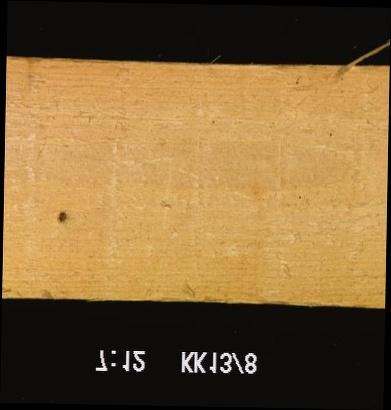small_knot: (55, 208, 67, 225)
